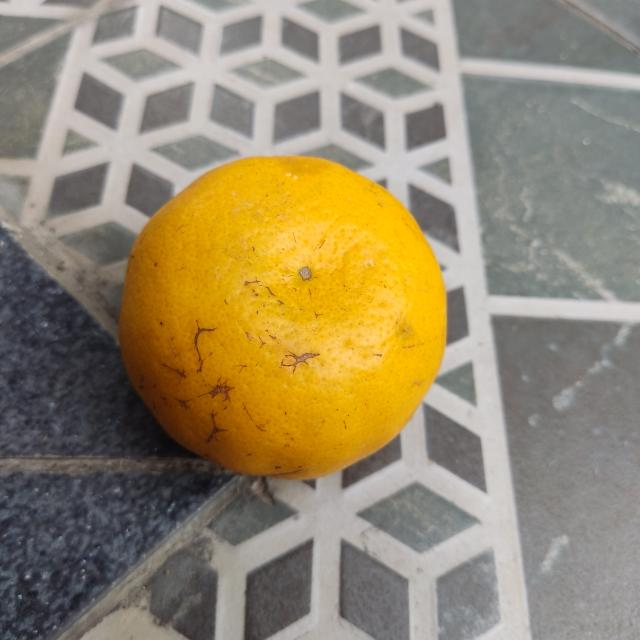orange: (118, 154, 450, 486)
